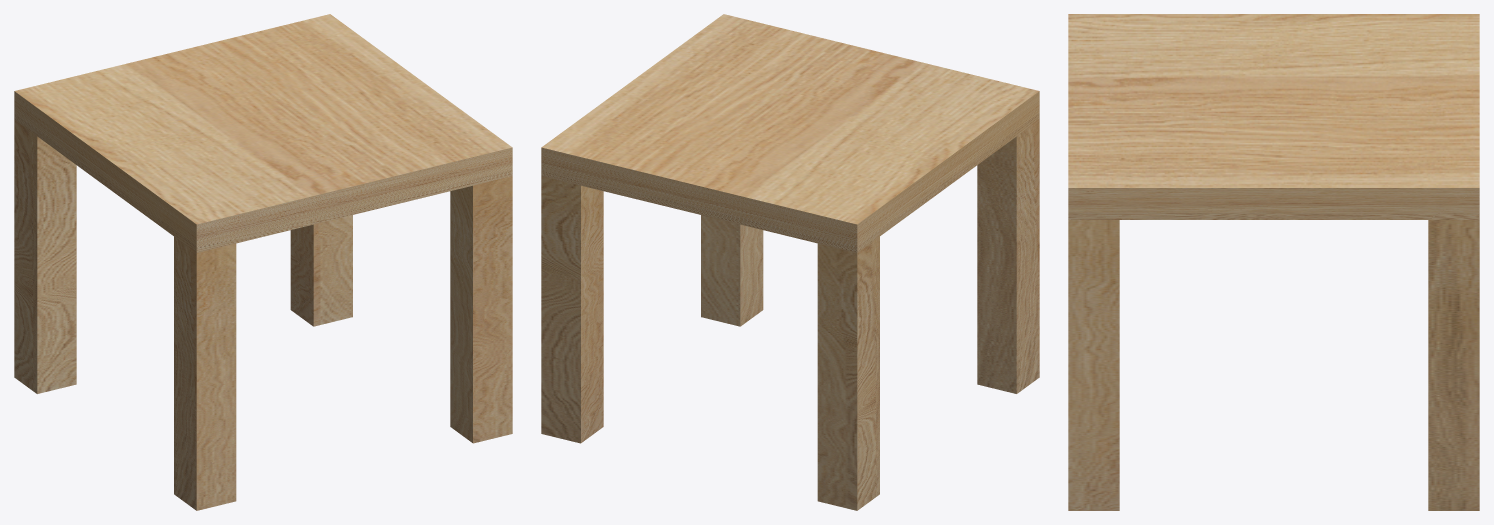
The model's file is table.glb.
3 renders of one model, left to right at view 1: azimuth 30°, elevation 25°; view 2: azimuth 150°, elevation 25°; view 3: azimuth 270°, elevation 25°, orthographic. The views are drawn at different scales.
Parts seen in each view (by area): view 1: Cube; view 2: Cube; view 3: Cube.
Boxes of the visible parts, bbox=[...] form: Cube: bbox=[14, 14, 512, 510]; Cube: bbox=[541, 14, 1039, 510]; Cube: bbox=[1068, 14, 1479, 510].
Size of the model in its own units: 0.8601 by 0.7453 by 0.8601.
Materials: 1 (1 with a texture image).
